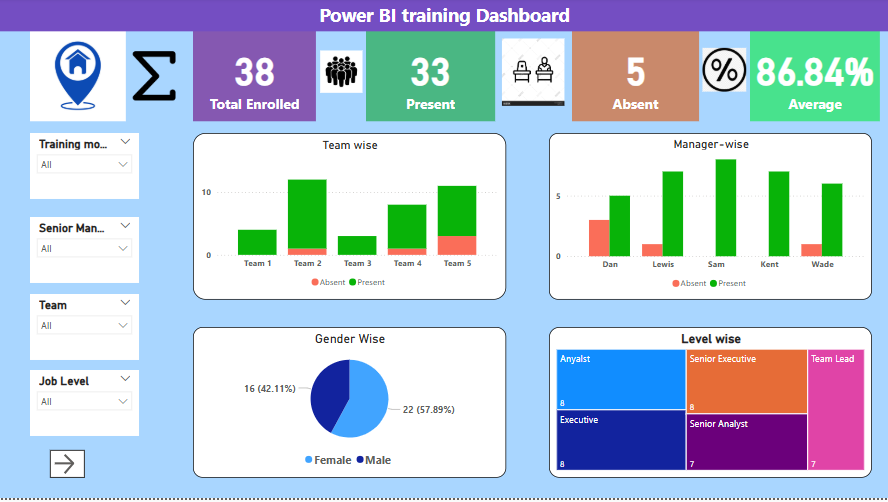

The page's visual inventory and layout, read from the dashboard file:
{"tool":"powerbi","page":{"name":"Dashboard","canvas":[1280,720],"ordinal":2},"visuals":[{"type":"card","fields":{"Values":["Data.full_name"]},"box":[277.9,47.5,177.1,129.6],"z":0},{"type":"card","fields":{"Values":["Data.full_name"]},"box":[527,47.5,185.8,129.6],"z":1000},{"type":"card","fields":{"Values":["Data.full_name"]},"box":[823.7,47.5,182.9,129.6],"z":2000},{"type":"card","fields":{"Values":["Data.Attendance Status"]},"box":[1080,47.5,187.2,129.6],"z":3000},{"type":"columnChart","title":"Team wise","fields":{"Category":["Data.Team"],"Y":["Data.Please enter your Dell Email ID:"],"Series":["Data.Attendance"]},"box":[277.9,194.4,450.7,240.5],"z":4000},{"type":"clusteredColumnChart","title":"Manager-wise","fields":{"Category":["Data.Please select your Manager Name:"],"Y":["Data.Please enter your Dell Email ID:"],"Series":["Data.Attendance"]},"box":[790.6,194.4,465.1,240.5],"z":5000},{"type":"pieChart","title":"Gender Wise","fields":{"Category":["Data.Gender"],"Y":["Data.Please enter your Dell Email ID:"]},"box":[277.9,473.8,450.7,217.4],"z":6000},{"type":"treemap","title":"Level wise","fields":{"Group":["Data.Job Level"],"Values":["Data.Please enter your Dell Email ID:"]},"box":[790.6,473.8,465.1,217.4],"z":7000},{"type":"slicer","fields":{"Values":["Data.Model"]},"box":[43.2,194.4,157,95],"z":8000},{"type":"slicer","fields":{"Values":["Data.Senior Manager"]},"box":[43.2,315.4,157,95],"z":9000},{"type":"slicer","fields":{"Values":["Data.Team"]},"box":[43.2,426.2,157,95],"z":10000},{"type":"slicer","fields":{"Values":["Data.Job Level"]},"box":[43.2,535.7,157,95],"z":11000},{"type":"image","box":[43.2,47.5,138.2,129.6],"z":12000},{"type":"actionButton","box":[72,650.9,50.4,40.3],"z":13000},{"type":"image","box":[181.4,70.6,80.6,82.1],"z":14000},{"type":"image","box":[455,70.6,72,70.6],"z":15000},{"type":"image","box":[712.8,53.3,110.9,106.6],"z":16000},{"type":"image","box":[1006.6,64.8,73.4,76.3],"z":17000},{"type":"textbox","box":[0,0,1280.2,47.5],"z":18000}]}

Visuals, with their boxes in screenshot pixels (x1, y1, x2, y2), scaled from the page's 1280x720 canvas onto the 888x502 screenshot:
card - Data.full_name: x1=193 y1=33 x2=316 y2=123
card - Data.full_name: x1=366 y1=33 x2=495 y2=123
card - Data.full_name: x1=571 y1=33 x2=698 y2=123
card - Data.Attendance Status: x1=749 y1=33 x2=879 y2=123
"Team wise" columnChart: x1=193 y1=136 x2=505 y2=303
"Manager-wise" clusteredColumnChart: x1=548 y1=136 x2=871 y2=303
"Gender Wise" pieChart: x1=193 y1=330 x2=505 y2=482
"Level wise" treemap: x1=548 y1=330 x2=871 y2=482
slicer - Data.Model: x1=30 y1=136 x2=139 y2=202
slicer - Data.Senior Manager: x1=30 y1=220 x2=139 y2=286
slicer - Data.Team: x1=30 y1=297 x2=139 y2=363
slicer - Data.Job Level: x1=30 y1=374 x2=139 y2=440
image: x1=30 y1=33 x2=126 y2=123
actionButton: x1=50 y1=454 x2=85 y2=482
image: x1=126 y1=49 x2=182 y2=106
image: x1=316 y1=49 x2=366 y2=98
image: x1=495 y1=37 x2=571 y2=111
image: x1=698 y1=45 x2=749 y2=98
textbox: x1=0 y1=0 x2=887 y2=33
